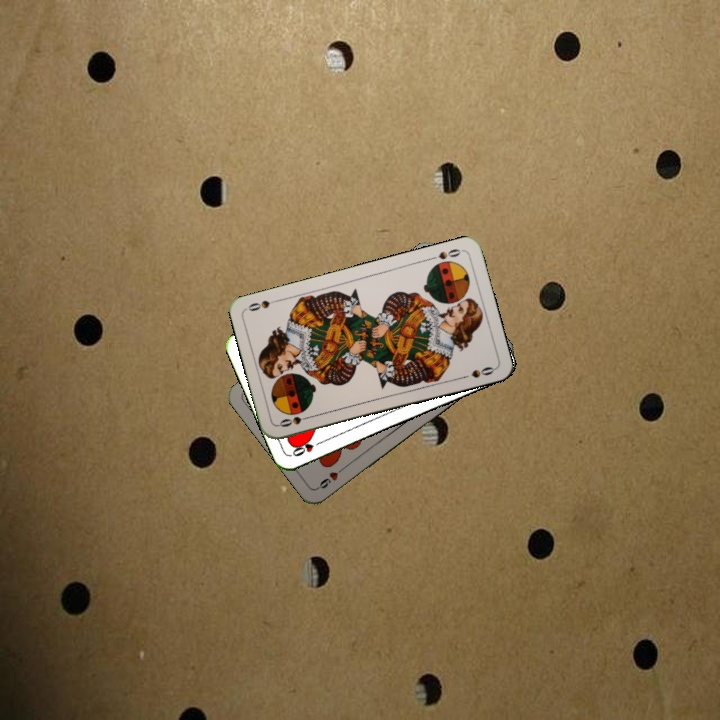H9: (313, 462, 348, 491)
HO: (288, 436, 326, 459)
SO: (275, 411, 315, 430), (425, 245, 465, 263)
